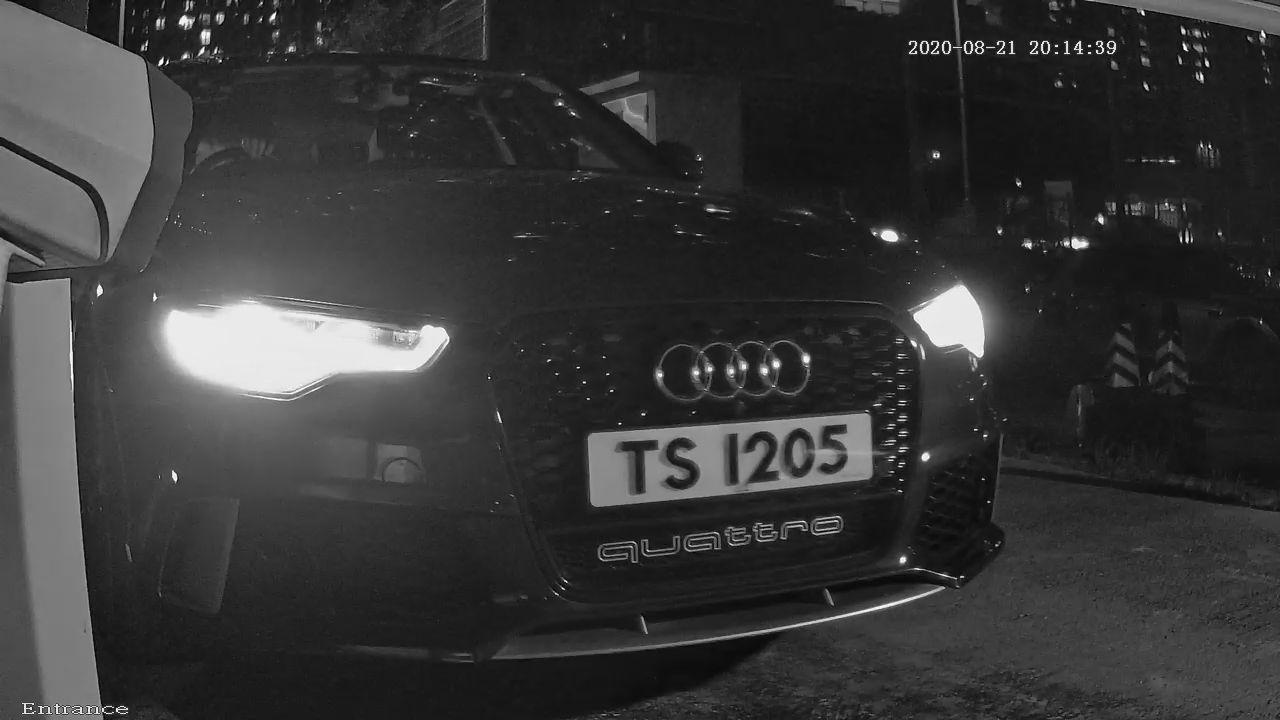Car: (1, 4, 1121, 714)
License Plate: (559, 399, 898, 540)
